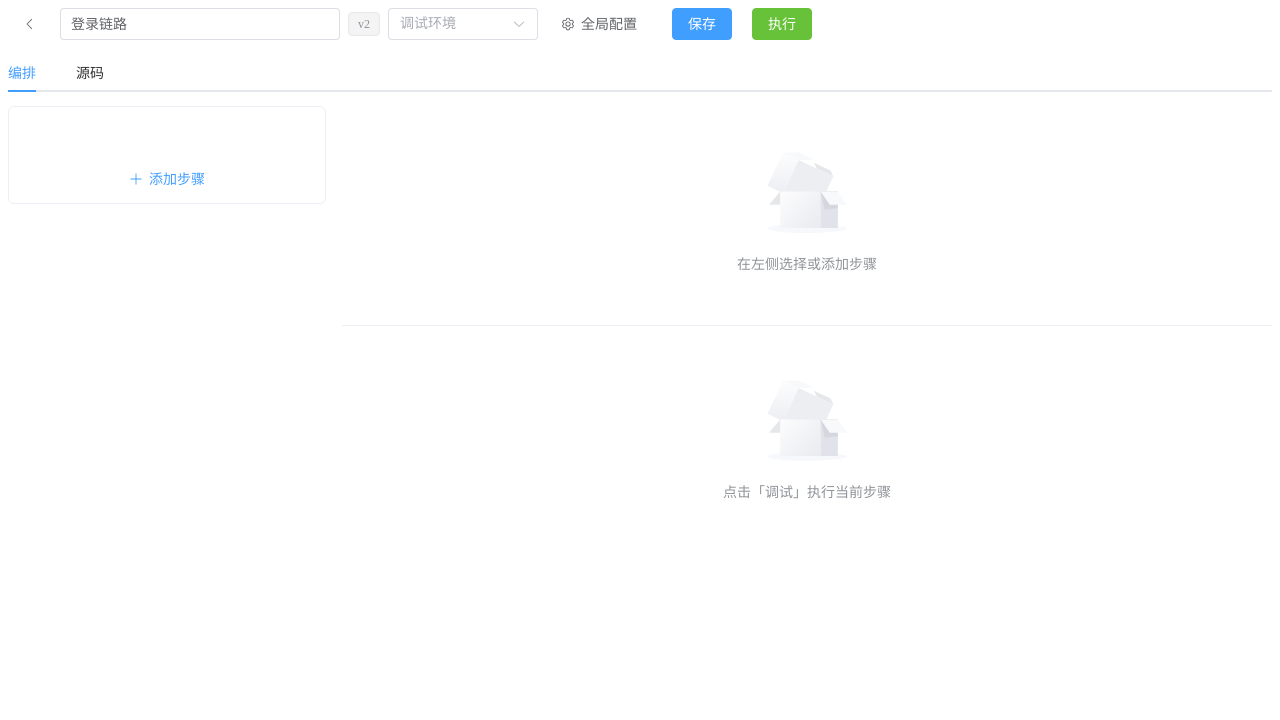
it: CaseDetailView › 保存:PATCH 提交名称 + 解析后的 dsl(规范化补齐默认值),版本号随之更新
The image size is (1280, 720).
Click the button with class "save-btn" at (702, 24), box [672,8,732,40]
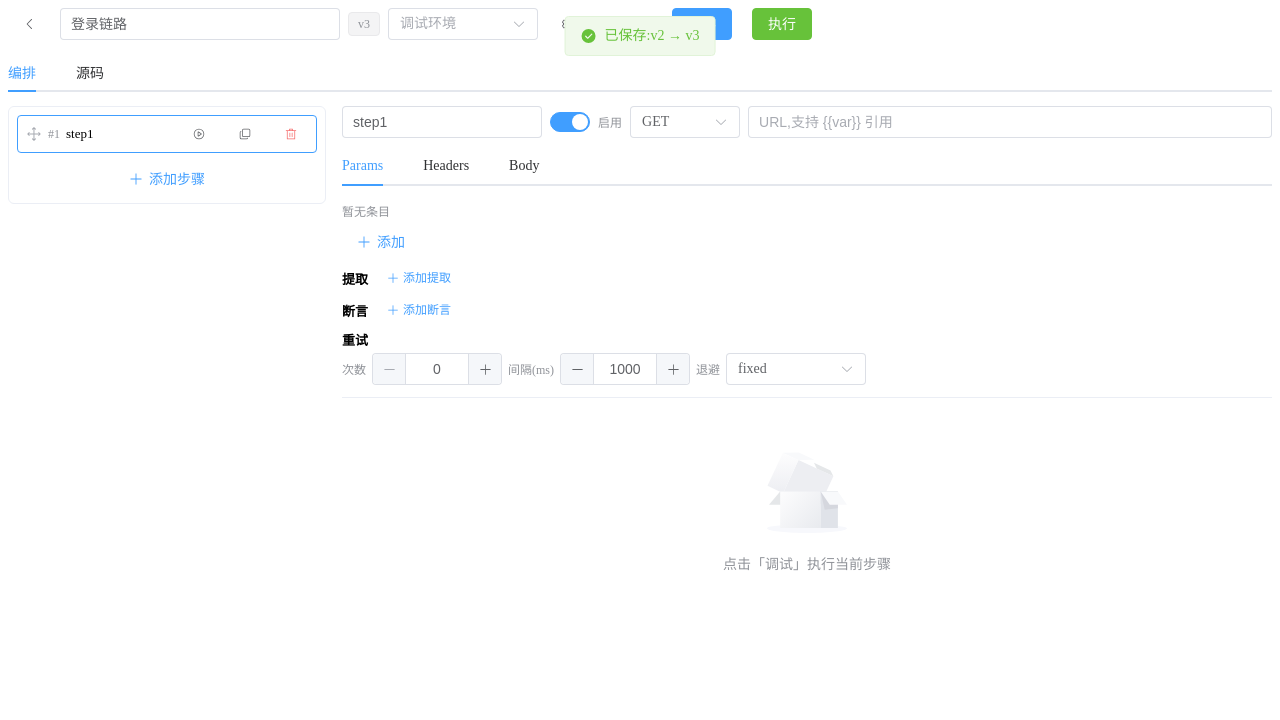
expect the element showing "v3" is shown: met, box [348,12,380,36]
